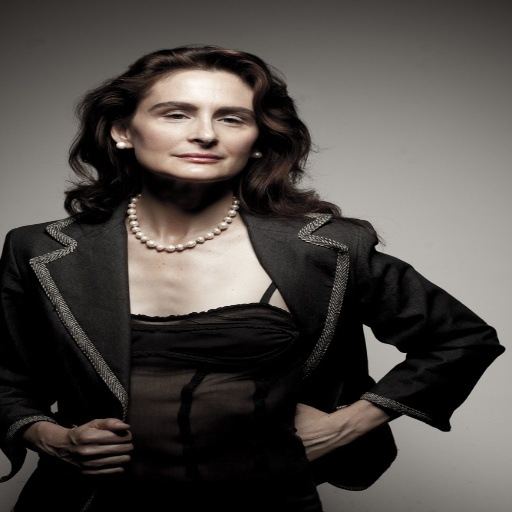hand: (42, 419, 134, 464), (290, 401, 343, 462)
